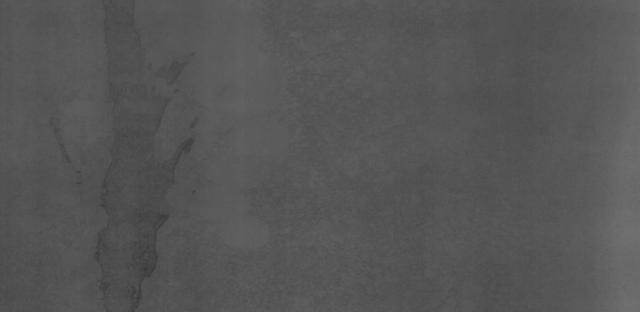water_spot: (77, 18, 220, 311)
